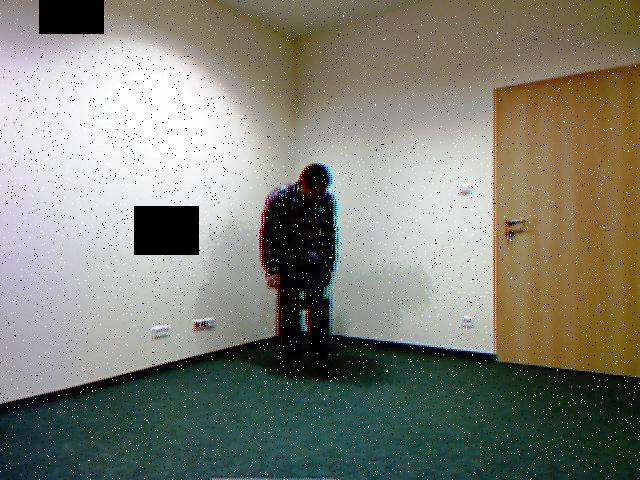walking: (250, 152, 364, 393)
